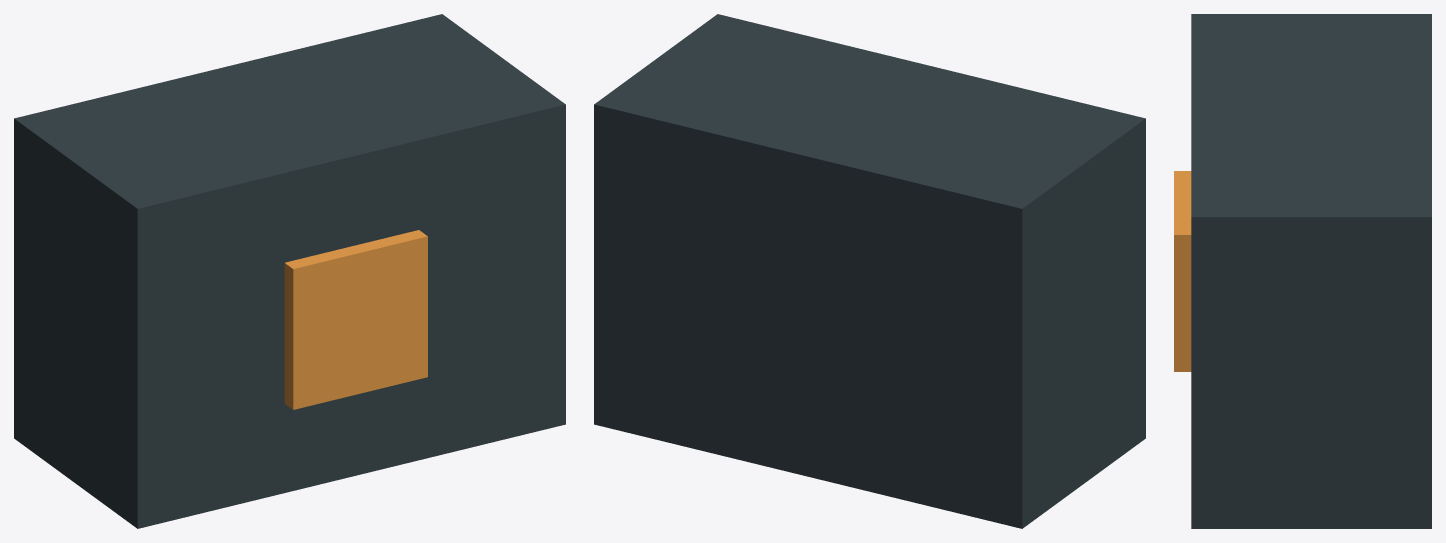
File: field_safety_kit.glb
3 renders of one model, left to right at view 1: azimuth 30°, elevation 25°; view 2: azimuth 150°, elevation 25°; view 3: azimuth 270°, elevation 25°, orthographic. The views are drawn at different scales.
Visible parts, largest first — view 1: field_safety_kit, field_safety_kit safety marking; view 2: field_safety_kit; view 3: field_safety_kit, field_safety_kit safety marking.
Boxes of the visible parts, box(x1,y1,x2,y2) form: field_safety_kit: box(14, 14, 565, 528); field_safety_kit safety marking: box(284, 230, 427, 409); field_safety_kit: box(594, 14, 1145, 528); field_safety_kit: box(1191, 14, 1431, 528); field_safety_kit safety marking: box(1174, 171, 1191, 371).
Bounding box in the file's own units: 1.4 × 1 × 0.75.
